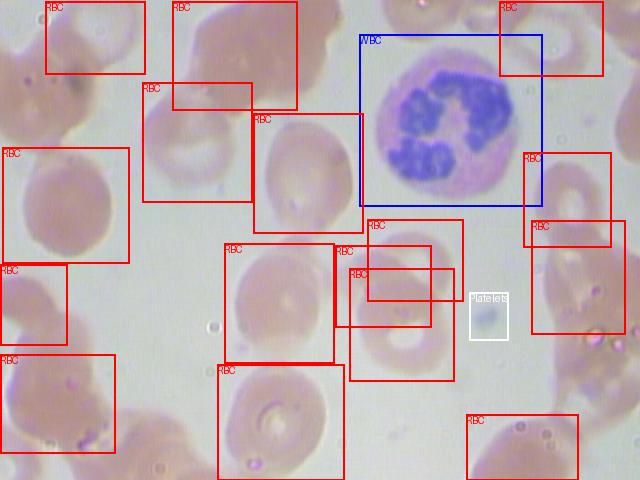Platelets: (469, 292, 508, 340)
RBC: (217, 364, 344, 480), (2, 147, 129, 263), (172, 1, 297, 110), (253, 113, 363, 233), (142, 82, 252, 202), (224, 243, 334, 363), (349, 268, 454, 381), (0, 354, 115, 453), (531, 220, 625, 334), (523, 152, 611, 247), (335, 245, 431, 327), (367, 219, 463, 301), (499, 1, 603, 76), (466, 414, 578, 480), (45, 1, 145, 74), (0, 264, 67, 345)
WBC: (359, 34, 542, 206)
